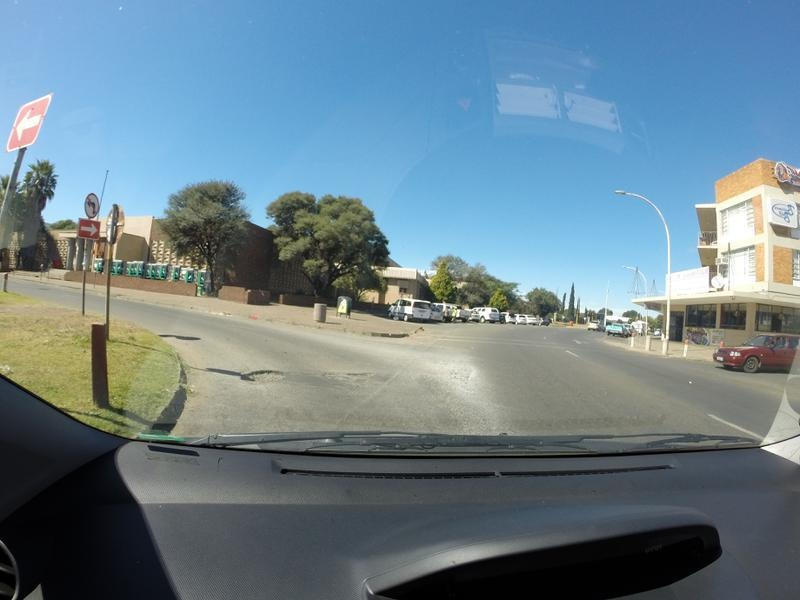pothole: (234, 366, 288, 386), (326, 369, 369, 382)
